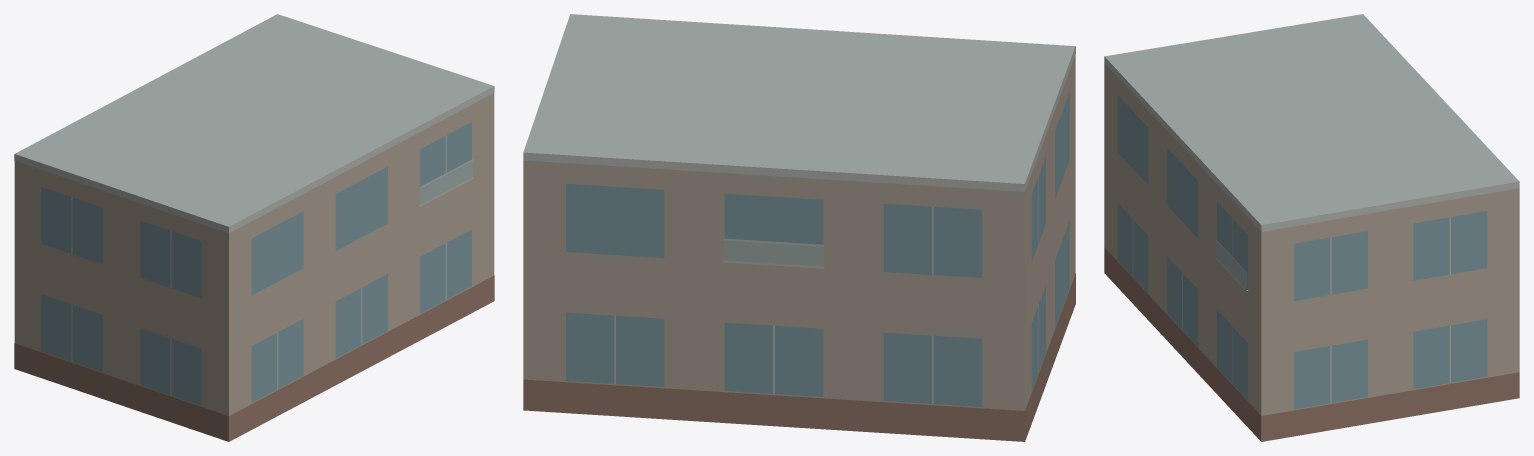
Rendered from survey-upis-32994740.glb.
3 renders of one model, left to right at view 1: azimuth 30°, elevation 25°; view 2: azimuth 150°, elevation 25°; view 3: azimuth 270°, elevation 25°, orthographic. The views are drawn at different scales.
Visible parts, largest first — view 1: survey-upis-32994740.tmp; view 2: survey-upis-32994740.tmp; view 3: survey-upis-32994740.tmp.
Part boxes in pixels (bbox=[...]): survey-upis-32994740.tmp: bbox=[14, 14, 494, 441]; survey-upis-32994740.tmp: bbox=[523, 14, 1075, 441]; survey-upis-32994740.tmp: bbox=[1104, 14, 1519, 441].
Size of the model in its own units: 16.53 by 7.9 by 13.73.
